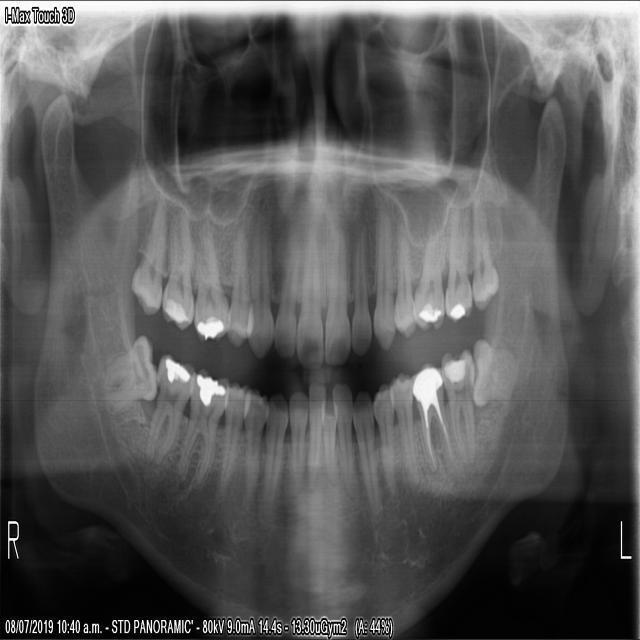LCD: (347, 383, 381, 517)
LCU: (369, 199, 396, 353)
LID: (328, 377, 353, 505), (317, 395, 339, 481)
LIU: (322, 226, 351, 367), (348, 225, 370, 360)
LMD: (409, 356, 457, 475), (435, 341, 478, 467), (470, 333, 515, 411)
LMU: (409, 217, 445, 334), (441, 200, 472, 328), (470, 191, 500, 315)
LPMD: (387, 364, 421, 500), (370, 378, 396, 506)
LPMU: (391, 211, 418, 339)
RCD: (260, 385, 288, 511)
RCU: (243, 217, 275, 360)
RID: (285, 385, 309, 497), (304, 376, 326, 494)
RIU: (293, 222, 323, 376), (272, 217, 298, 363)
RMD: (174, 360, 230, 499), (144, 345, 196, 468), (102, 329, 158, 413)
RMU: (124, 188, 168, 325), (191, 201, 228, 349), (160, 201, 192, 335)
RPMD: (212, 377, 250, 501), (240, 384, 270, 521)
RPMU: (222, 216, 255, 352)
